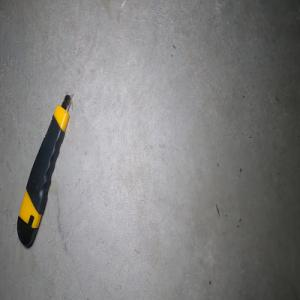Cutter: (16, 92, 72, 247)
